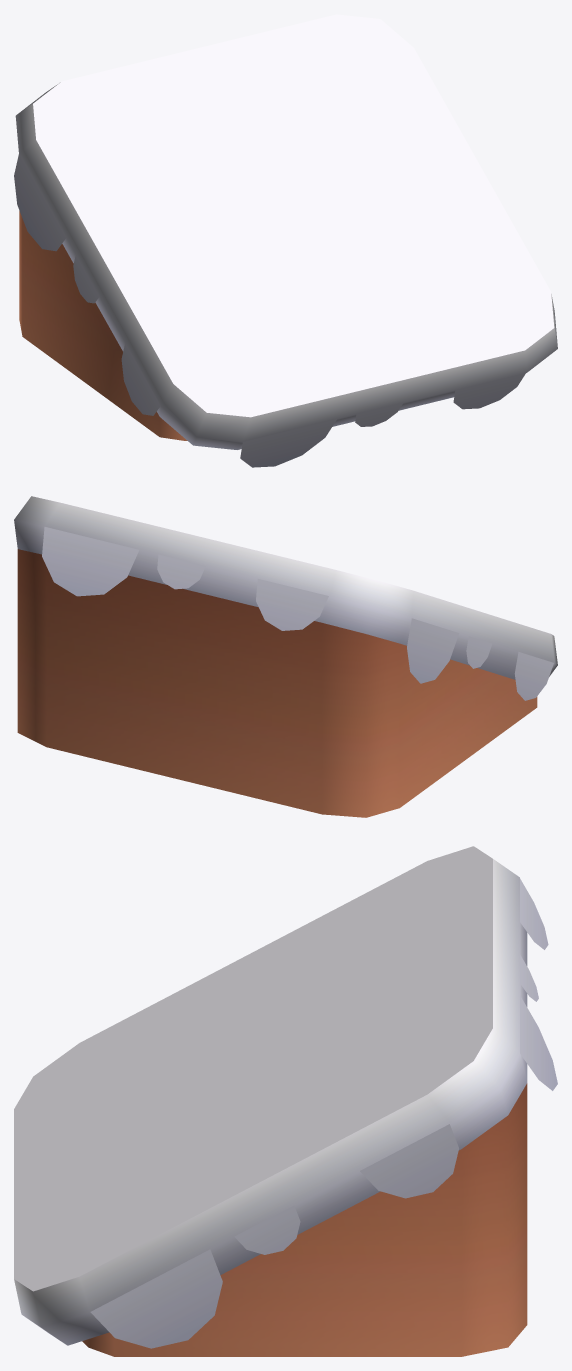
The model's file is kenney-platformer-block-snow-overhang-large-slope-steep.glb.
3 views of the same model, one above another, from view 1: azimuth 30°, elevation 25°; view 2: azimuth 150°, elevation 25°; view 3: azimuth 270°, elevation 25° (orthographic). The views are drawn at different scales.
Visible parts, largest first — view 1: block-snow-overhang-large-slope-steep; view 2: block-snow-overhang-large-slope-steep; view 3: block-snow-overhang-large-slope-steep.
Boxes of the visible parts, x1,y1,x2,y2 form: block-snow-overhang-large-slope-steep: (14, 14, 557, 467); block-snow-overhang-large-slope-steep: (14, 496, 557, 817); block-snow-overhang-large-slope-steep: (14, 846, 557, 1356).
Size of the model in its own units: 2.08 by 1.37 by 1.97.
1 material, 1 textured.
